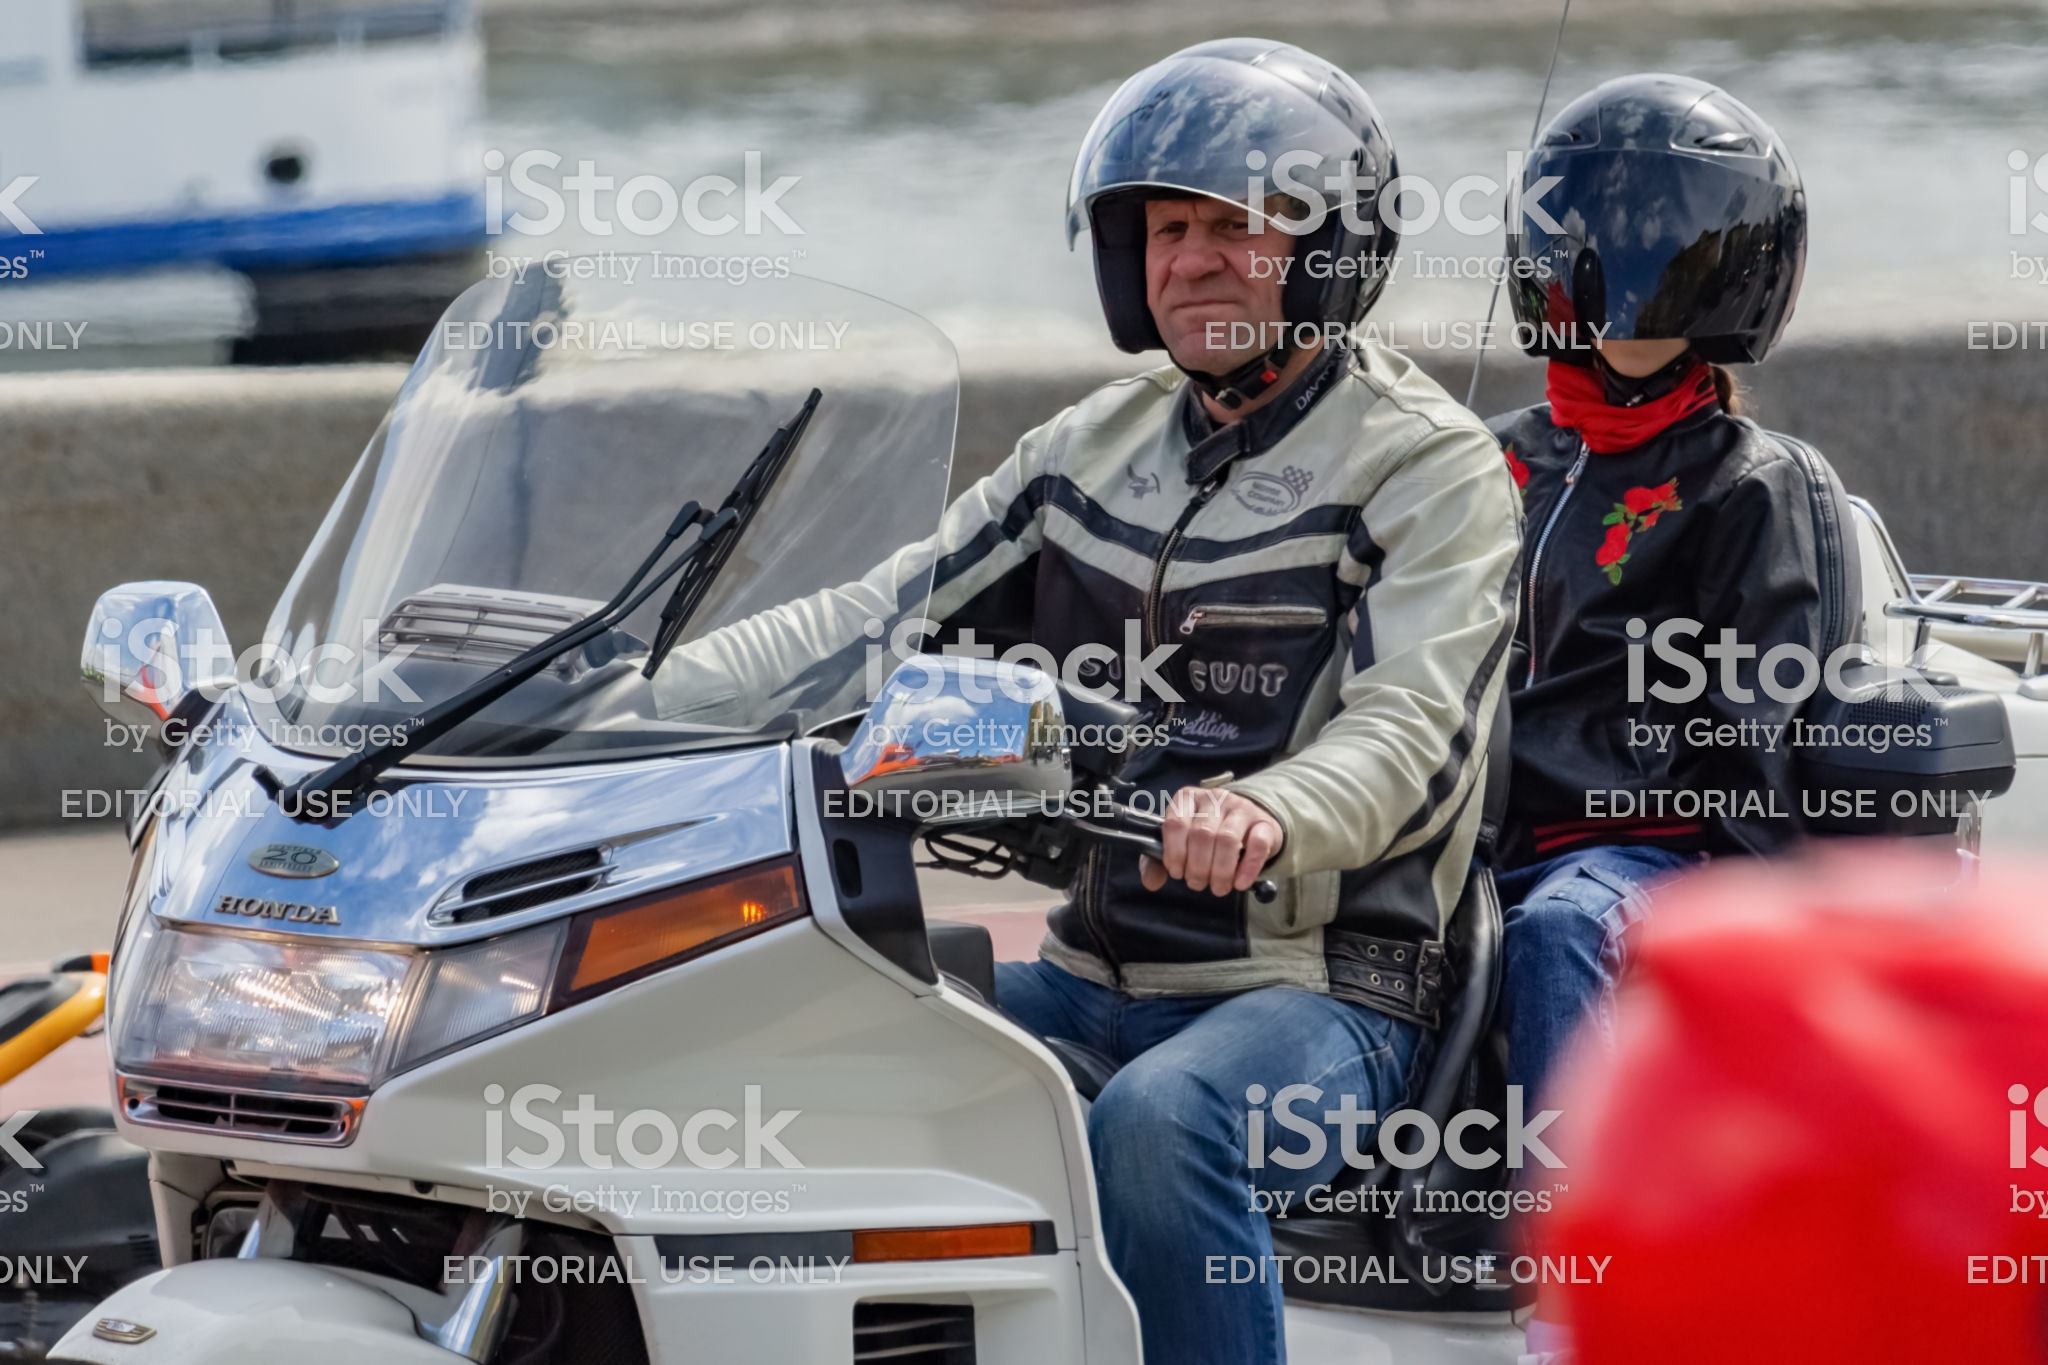helmet: (1067, 37, 1413, 329), (1515, 88, 1815, 358)
